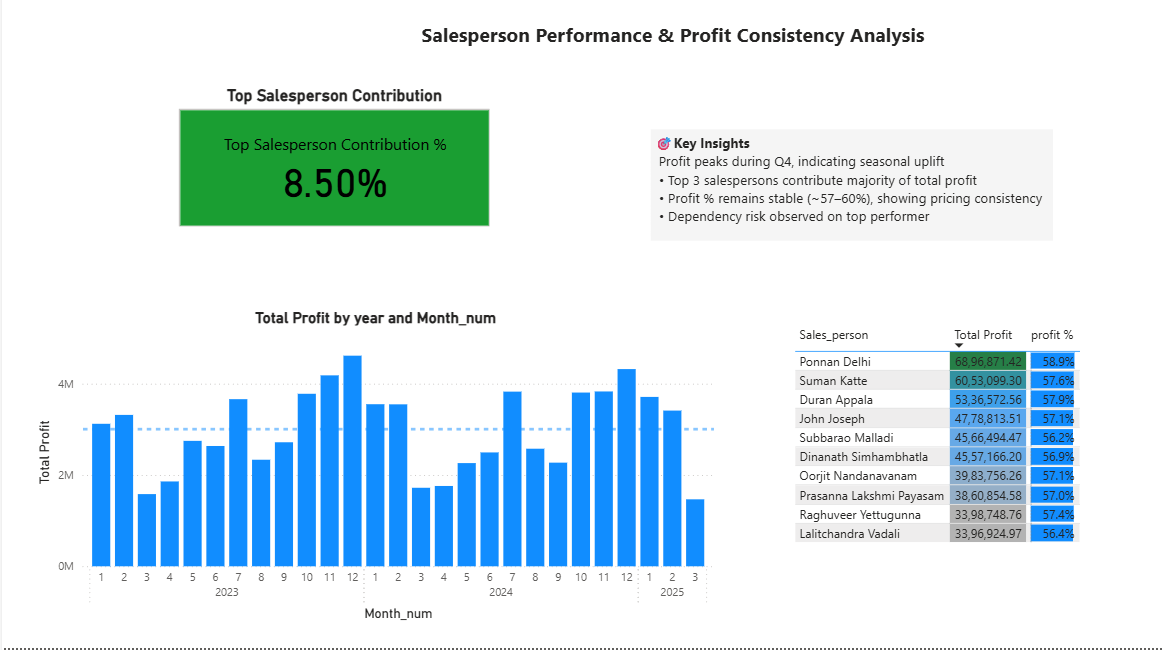

The page's visual inventory and layout, read from the dashboard file:
{"tool":"powerbi","page":{"name":"Page 5","canvas":[1280,720],"ordinal":4},"visuals":[{"type":"tableEx","fields":{"Values":["people.Sales_person","shipments.total profit","shipments.profit %"]},"box":[31.9,13.4,349.4,152.9],"z":0},{"type":"clusteredColumnChart","fields":{"Category":["calendar.year","calendar.Month_num"],"Y":["shipments.total profit"]},"box":[446.8,166.3,769.3,468.7],"z":1000},{"type":"tableEx","fields":{"Values":["people.Sales_person","shipments.total profit","shipments.profit %"]},"box":[31.9,181.4,347.7,539.2],"z":2000}]}

Visuals, with their boxes in screenshot pixels (x1, y1, x2, y2), scaled from the page's 1280x720 canvas onto the 1162x650 screenshot:
tableEx - people.Sales_person x shipments.total profit: crop(29, 12, 346, 150)
clusteredColumnChart - calendar.year x calendar.Month_num: crop(406, 150, 1104, 573)
tableEx - people.Sales_person x shipments.total profit: crop(29, 164, 345, 649)
